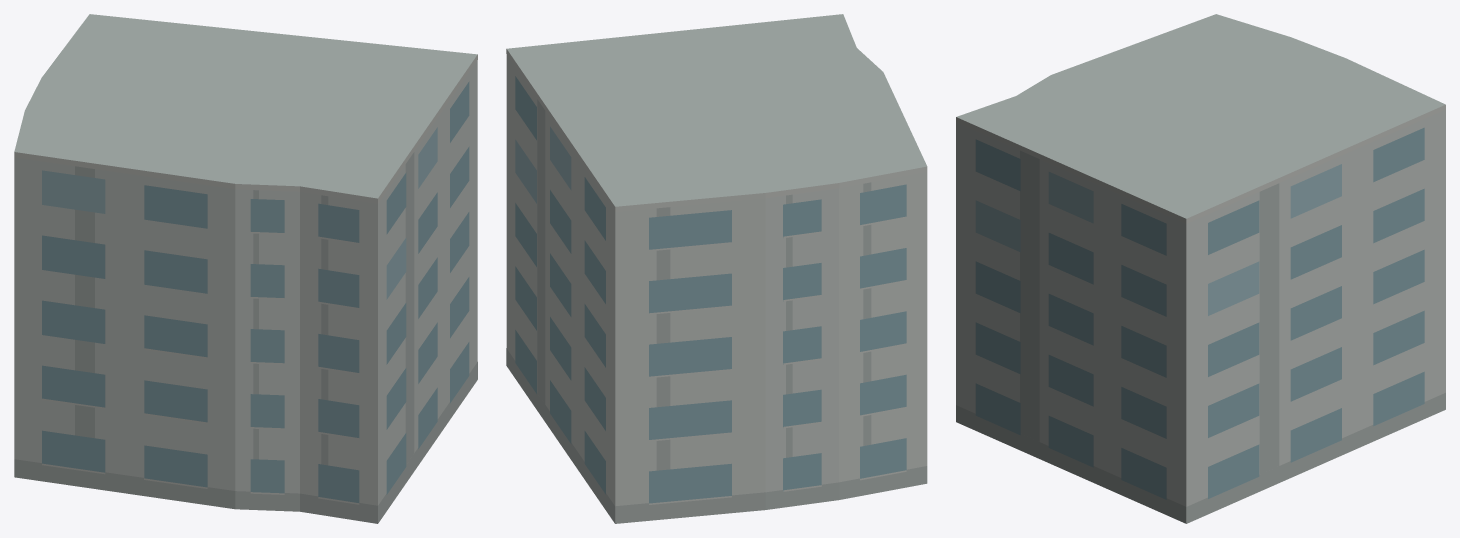
Rendered from survey-upis-32563199.glb.
3 renders of one model, left to right at view 1: azimuth 30°, elevation 25°; view 2: azimuth 150°, elevation 25°; view 3: azimuth 270°, elevation 25°, orthographic. The views are drawn at different scales.
Parts seen in each view (by area): view 1: survey-upis-32563199.tmp; view 2: survey-upis-32563199.tmp; view 3: survey-upis-32563199.tmp.
Boxes of the visible parts, box(x1,y1,x2,y2) form: survey-upis-32563199.tmp: box(14, 14, 477, 523); survey-upis-32563199.tmp: box(506, 14, 927, 523); survey-upis-32563199.tmp: box(956, 14, 1445, 523).
Bounding box in the file's own units: 20.6 × 14.3 × 20.81.
